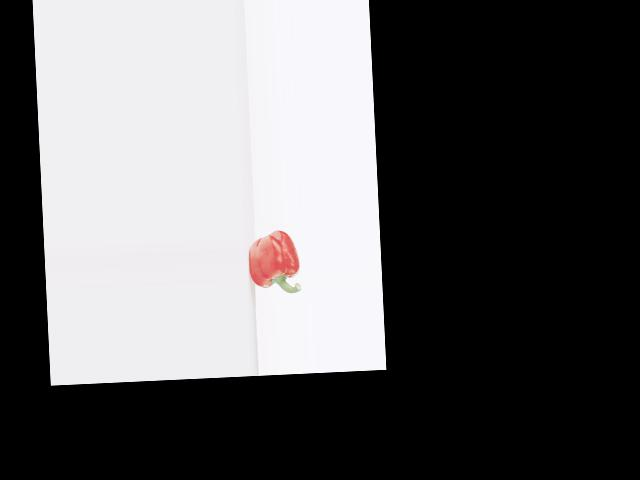bell_pepper: (245, 226, 303, 301)
